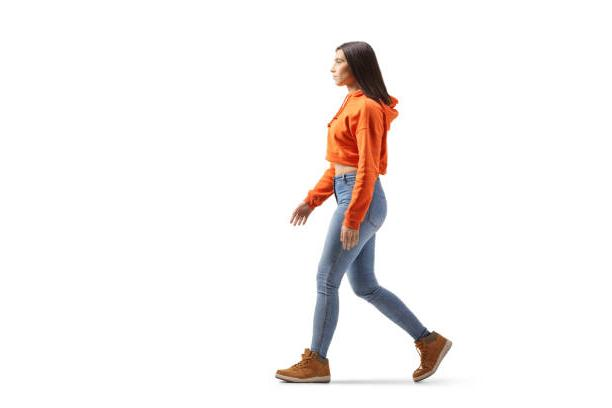sweater: (303, 90, 400, 232)
trousers: (312, 170, 427, 361)
